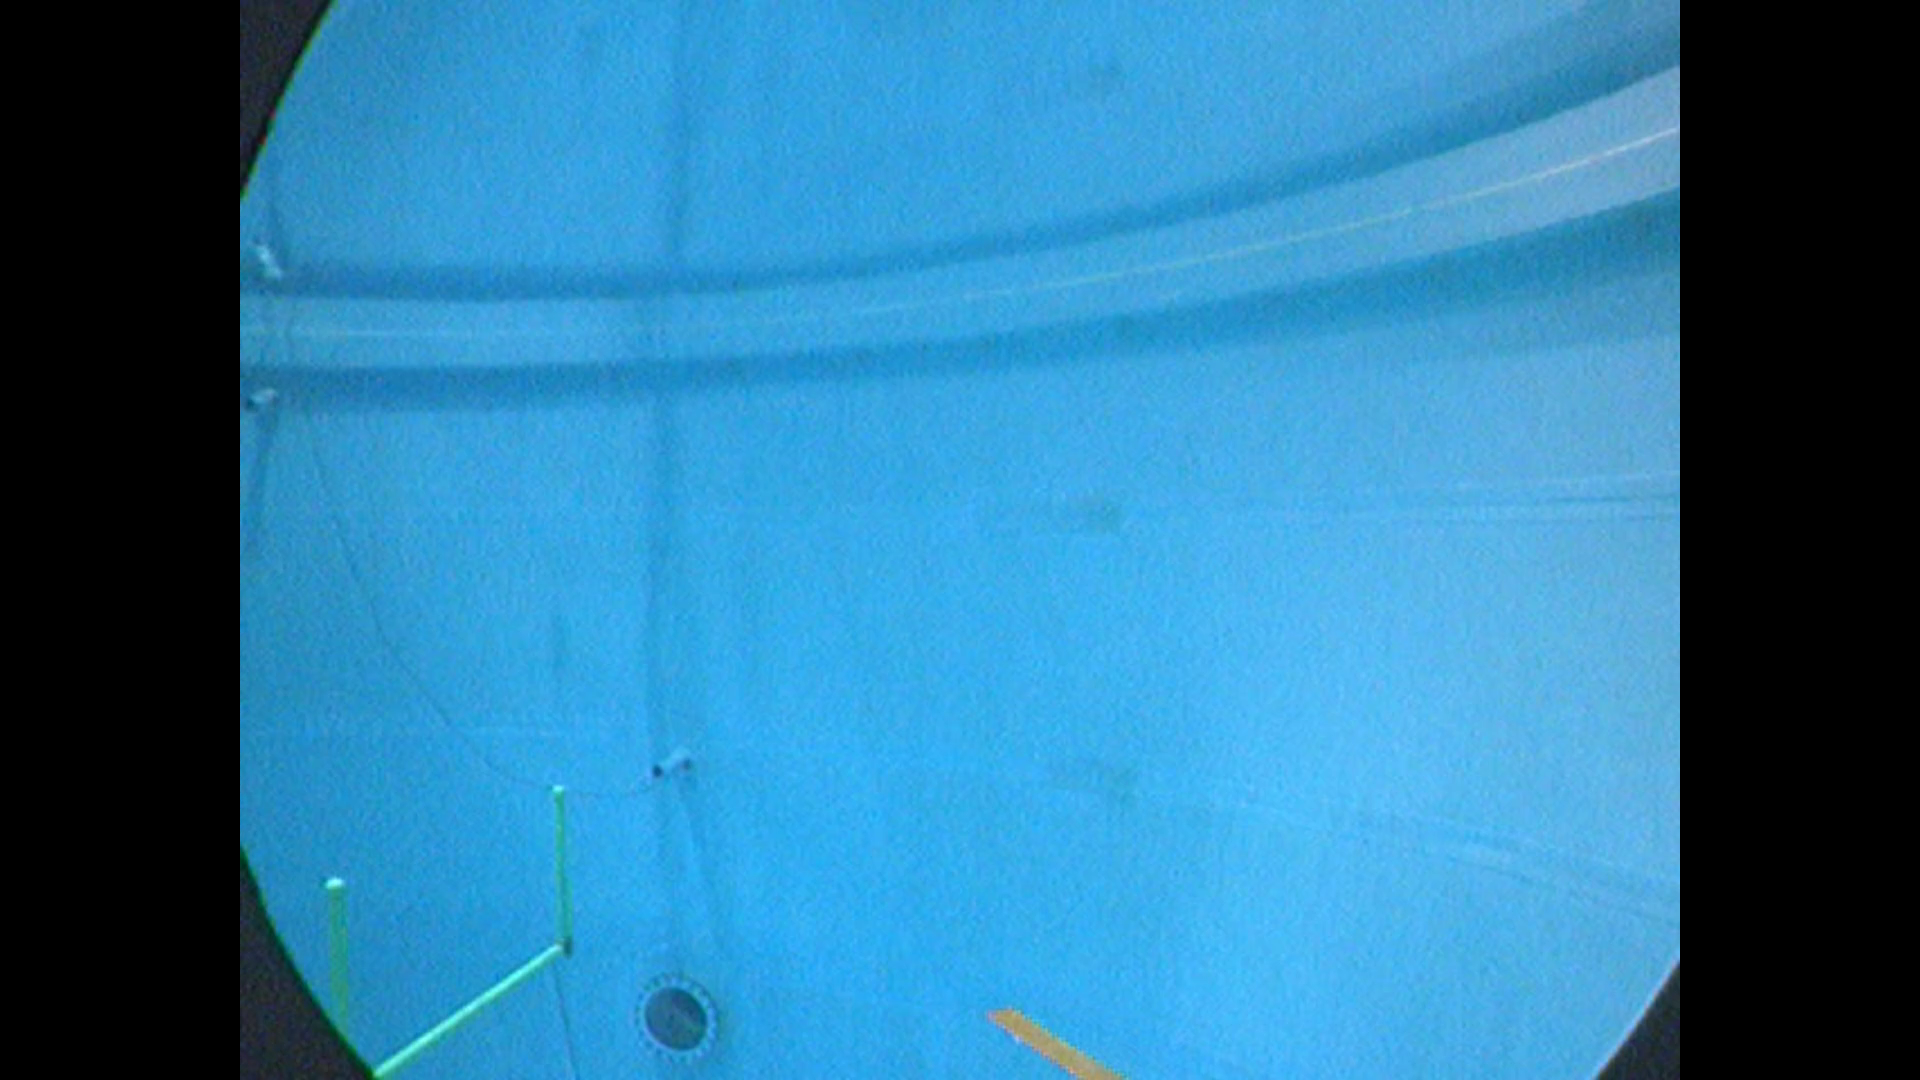gate: (334, 775, 576, 1080)
